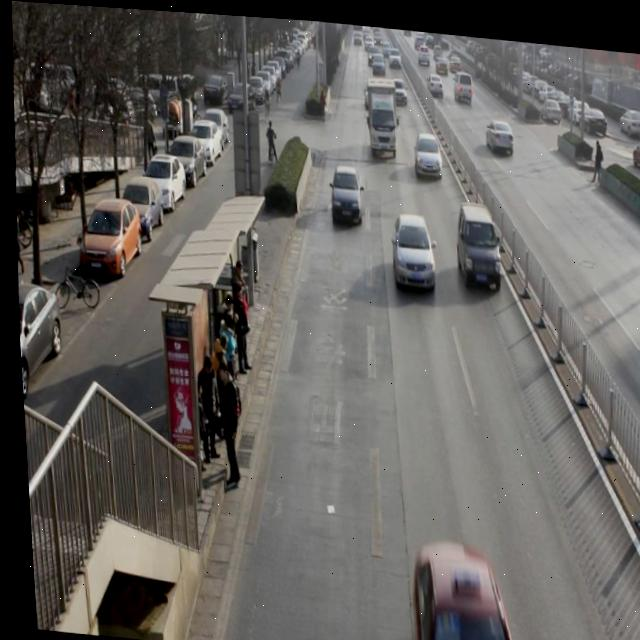bus: (365, 74, 398, 152)
car: (401, 538, 512, 640), (451, 193, 503, 285), (386, 204, 436, 288), (324, 158, 364, 222), (410, 127, 443, 176), (482, 108, 515, 151), (389, 68, 409, 105), (423, 64, 445, 91), (371, 48, 386, 71)
truck: (450, 61, 474, 102)
